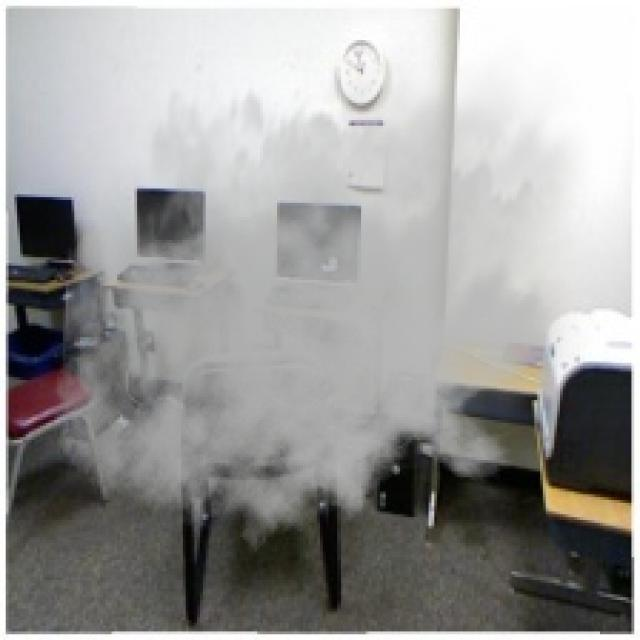Smoke: (51, 26, 603, 568)
